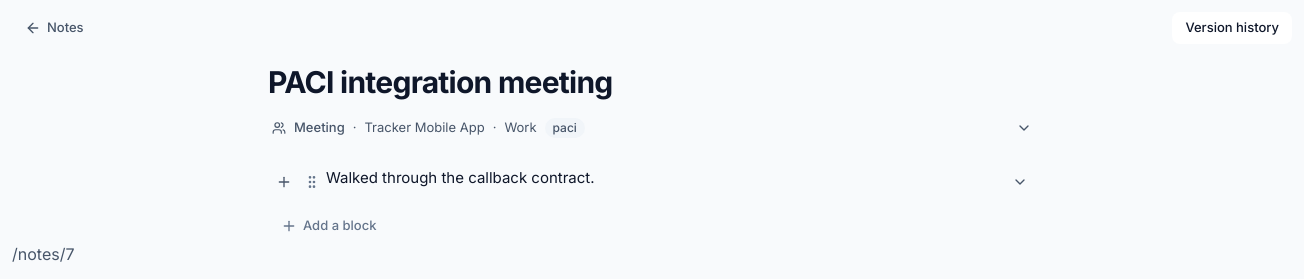
Test: NotePage - autosave › shows a persistent error with a retry when a save fails, and never claims Saved
Type "!" into the 1st text box named "Note title" at (652, 82), box 268,60 -> 1036,104
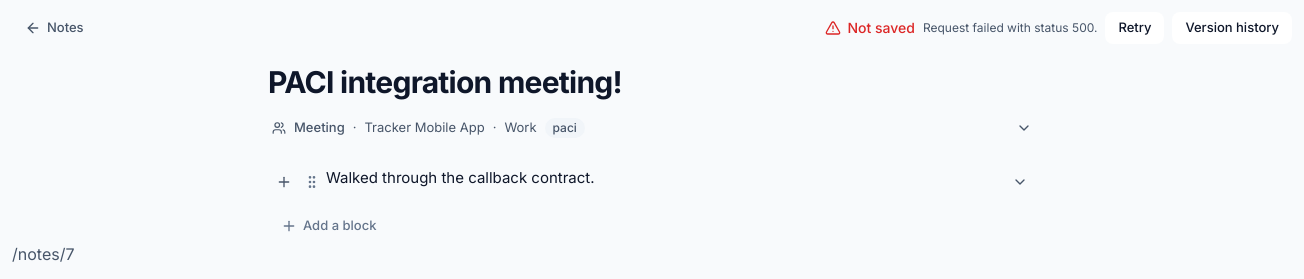
Expected: the text "Not saved" is shown, 826,18 -> 915,38
Click the button "Retry" at (1135, 28), box 1105,12 -> 1164,44
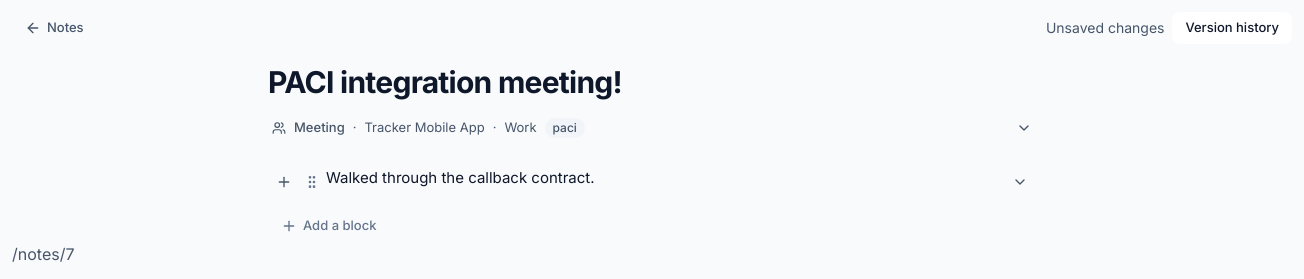
Expected: the text "saved" is shown, 1046,19 -> 1164,36
